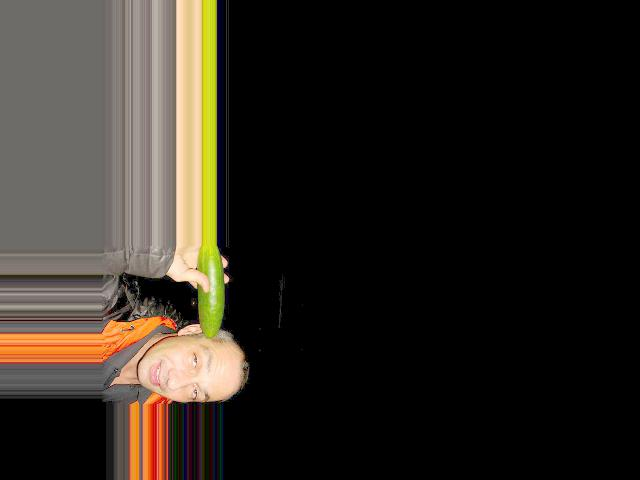cucumber: (197, 245, 224, 339)
